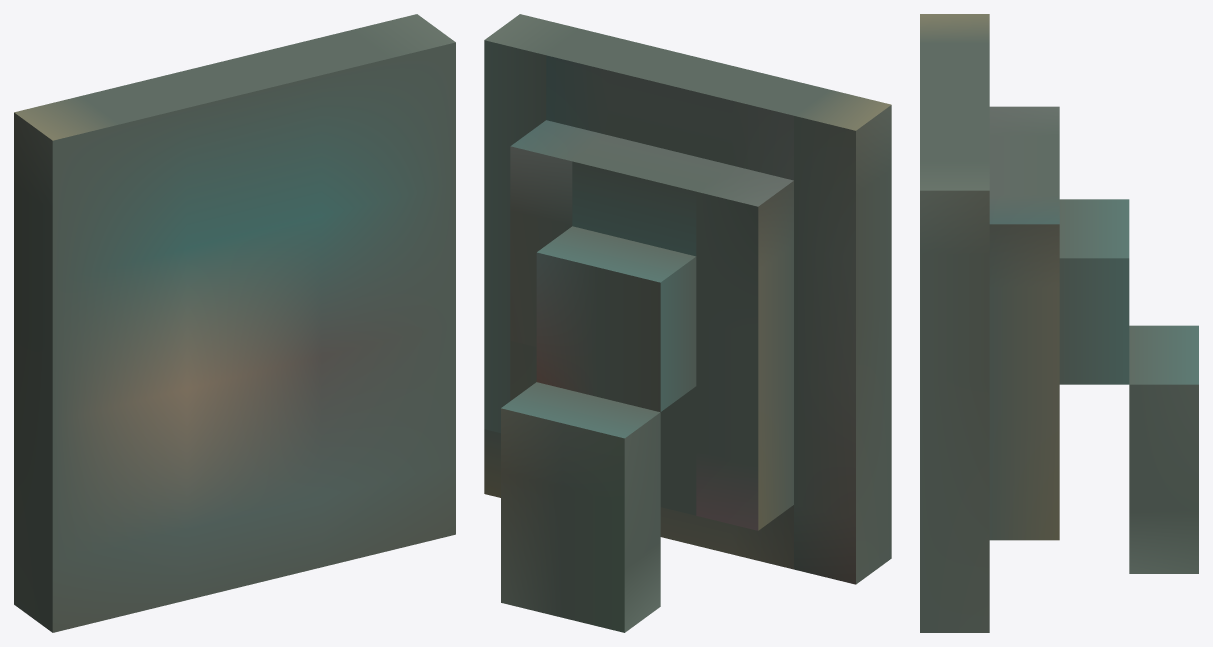
Rendered from PaintingFramedSmall_B_02.fbx.
3 views of the same model, side by side, from view 1: azimuth 30°, elevation 25°; view 2: azimuth 150°, elevation 25°; view 3: azimuth 270°, elevation 25° (orthographic). The views are drawn at different scales.
Visible parts, largest first — view 1: PaintingFramedSmall_B_02; view 2: PaintingFramedSmall_B_02; view 3: PaintingFramedSmall_B_02.
Boxes of the visible parts, x1,y1,x2,y2 form: PaintingFramedSmall_B_02: [14, 14, 455, 632]; PaintingFramedSmall_B_02: [484, 14, 891, 632]; PaintingFramedSmall_B_02: [920, 14, 1198, 632].
Size of the model in its own units: 30 by 20 by 35.
Materials: 1 (1 with a texture image).
